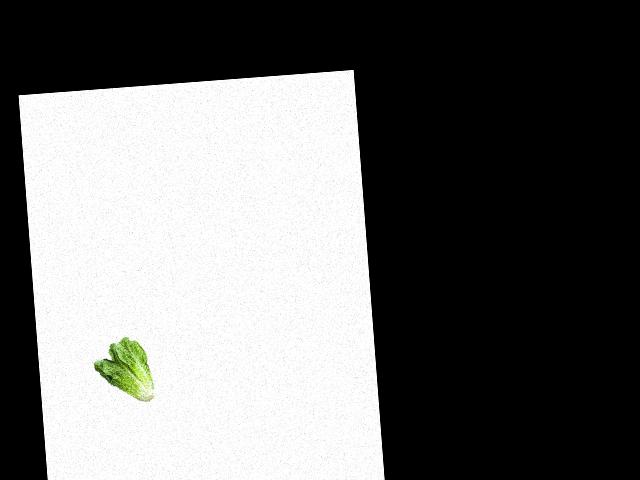lettuce: (89, 335, 160, 409)
